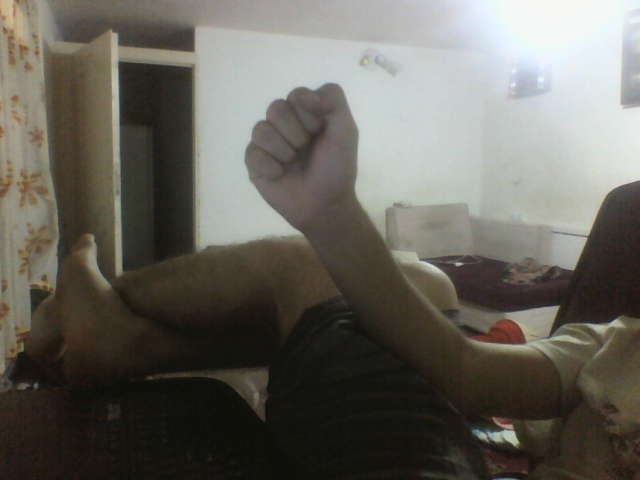attack: (244, 84, 373, 234)
